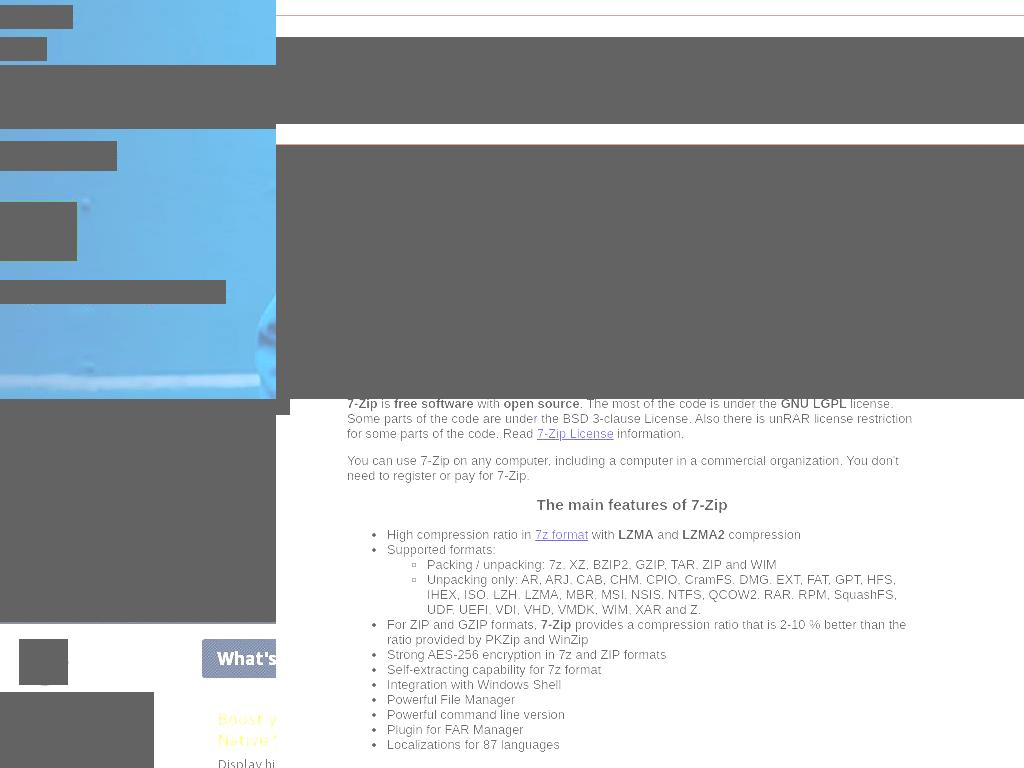button: (276, 346, 516, 397), (0, 202, 77, 261)
field: (384, 186, 516, 237), (276, 186, 373, 237)
heading: (576, 165, 950, 298), (347, 496, 917, 515), (217, 709, 276, 751)
image: (0, 399, 276, 622), (0, 572, 276, 622), (19, 639, 68, 685)
label: (276, 312, 372, 335)
link: (276, 81, 1024, 124), (530, 81, 601, 102), (536, 425, 614, 441), (534, 526, 588, 542)
text: (276, 145, 1024, 399), (276, 37, 1024, 102), (347, 399, 912, 441), (427, 571, 917, 617), (347, 453, 917, 484), (576, 318, 950, 364), (387, 616, 907, 647), (0, 572, 276, 622), (601, 81, 1024, 102), (0, 65, 276, 97), (0, 97, 276, 129), (387, 646, 917, 662), (387, 661, 917, 677), (387, 676, 917, 692), (387, 691, 917, 707), (387, 706, 917, 722), (387, 721, 917, 737), (387, 736, 917, 752), (427, 556, 917, 572), (0, 692, 154, 741), (40, 280, 226, 304), (0, 741, 154, 768), (25, 141, 117, 171), (211, 639, 276, 678), (387, 616, 541, 632), (579, 399, 781, 411), (387, 526, 535, 542), (377, 764, 829, 768), (0, 5, 73, 29), (387, 541, 496, 557), (724, 526, 801, 542), (613, 425, 684, 441), (0, 37, 47, 61), (393, 399, 474, 411), (503, 399, 581, 411), (780, 399, 847, 411), (901, 342, 937, 364), (0, 141, 25, 171), (682, 526, 726, 542), (618, 526, 655, 542), (588, 526, 619, 542), (540, 616, 571, 632), (653, 526, 682, 542), (347, 399, 378, 411), (473, 399, 503, 411), (377, 399, 394, 411), (347, 764, 378, 768), (353, 103, 357, 124), (894, 343, 901, 355)
